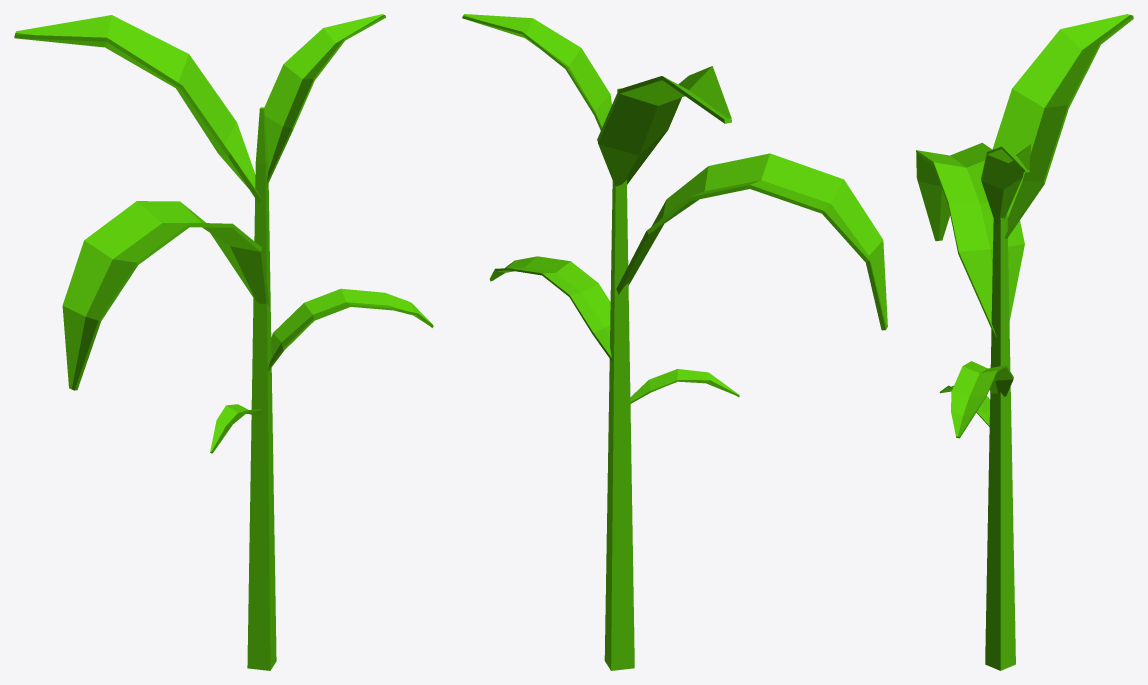
Rendered from corn_01.fbx.
The picture shows the model from 3 angles, left to right: view 1: azimuth 30°, elevation 25°; view 2: azimuth 150°, elevation 25°; view 3: azimuth 270°, elevation 25°; orthographic projection. The views are drawn at different scales.
Visible parts, largest first — view 1: Cube; view 2: Cube; view 3: Cube.
Part boxes in pixels (x1,y1,x2,y2): Cube: [14, 14, 433, 670]; Cube: [462, 14, 887, 670]; Cube: [916, 14, 1133, 670].
Bounding box in the file's own units: 34.84 × 56.41 × 19.18.
